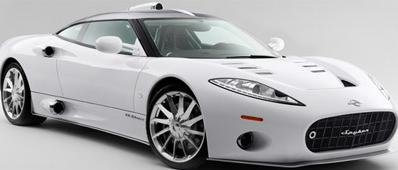front_view: (215, 62, 398, 170)
headlight: (201, 73, 310, 117)
side_glass: (55, 18, 153, 68)
